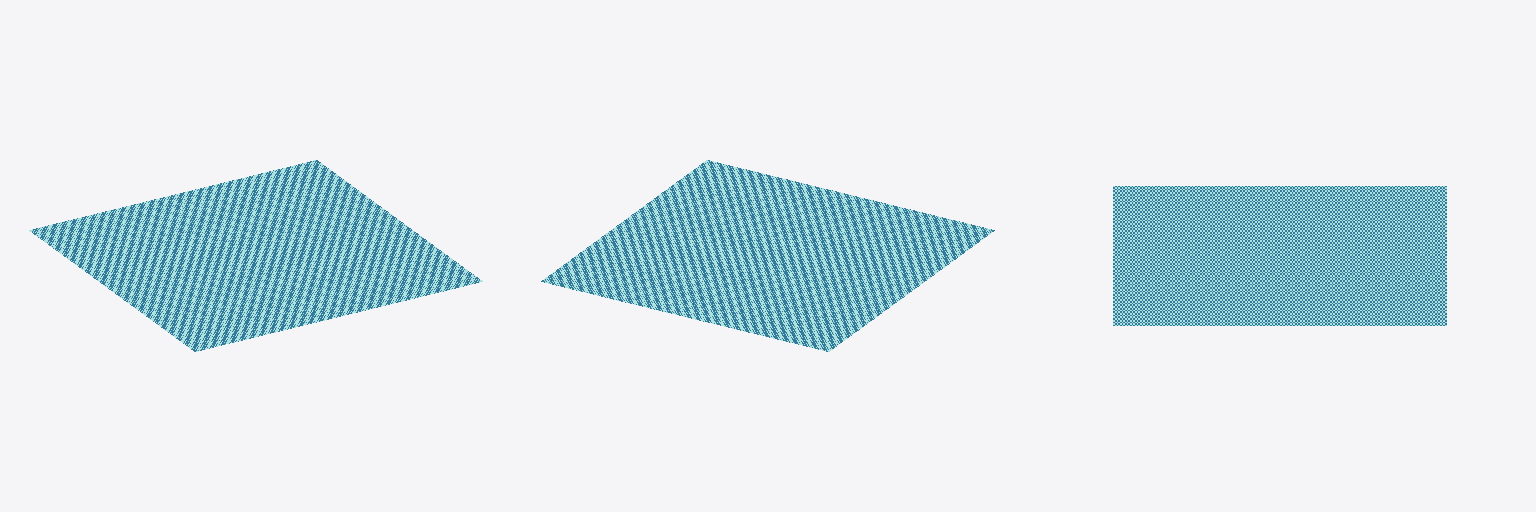
3 renders of one model, left to right at view 1: azimuth 30°, elevation 25°; view 2: azimuth 150°, elevation 25°; view 3: azimuth 270°, elevation 25°, orthographic.
Parts seen in each view (by area): view 1: Floor; view 2: Floor; view 3: Floor.
Part boxes in pixels (x1,y1,x2,y2): Floor: (29, 160, 482, 351); Floor: (541, 160, 994, 351); Floor: (1113, 186, 1446, 325).
Size of the model in its own units: 2000 by 0 by 2000.
1 materials, 1 textured.